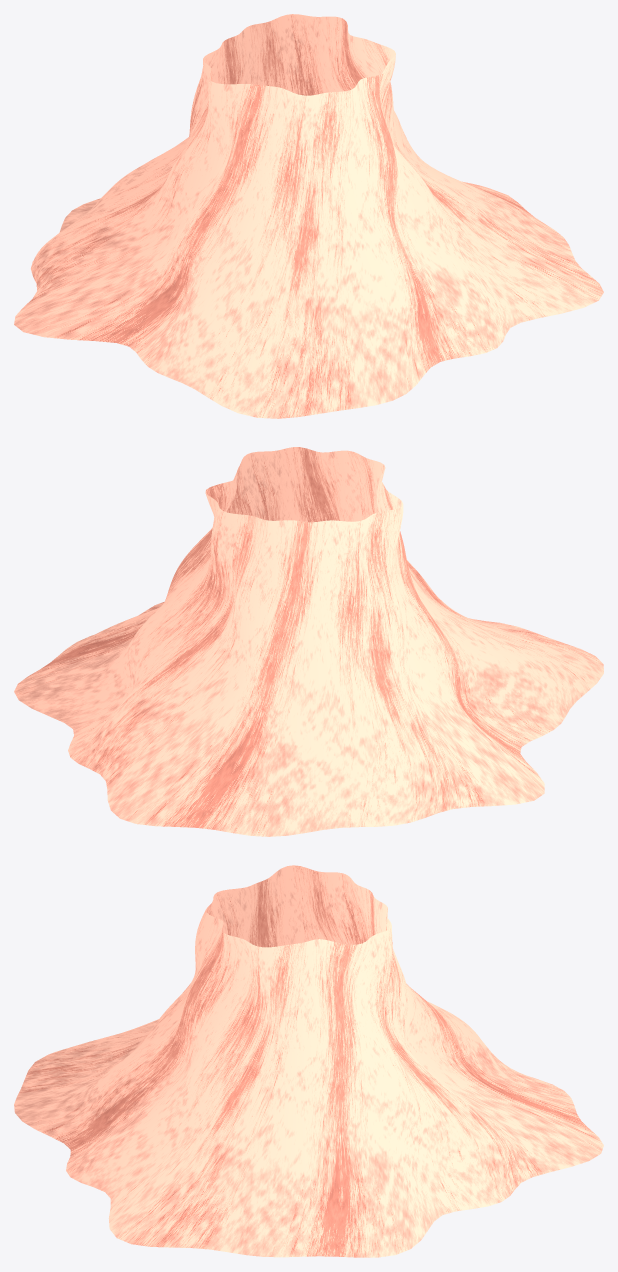
Rendered from devil_curtain.glb.
3 views of the same model, one above another, from view 1: azimuth 30°, elevation 25°; view 2: azimuth 150°, elevation 25°; view 3: azimuth 270°, elevation 25° (orthographic).
Visible parts, largest first — view 1: devil_curtain; view 2: devil_curtain; view 3: devil_curtain.
Part boxes in pixels (<box>): devil_curtain: <box>14,14,603,418</box>; devil_curtain: <box>14,447,603,836</box>; devil_curtain: <box>14,865,603,1257</box>.
Size of the model in its own units: 30.12 by 13 by 30.59.
Materials: 1 (1 with a texture image).
